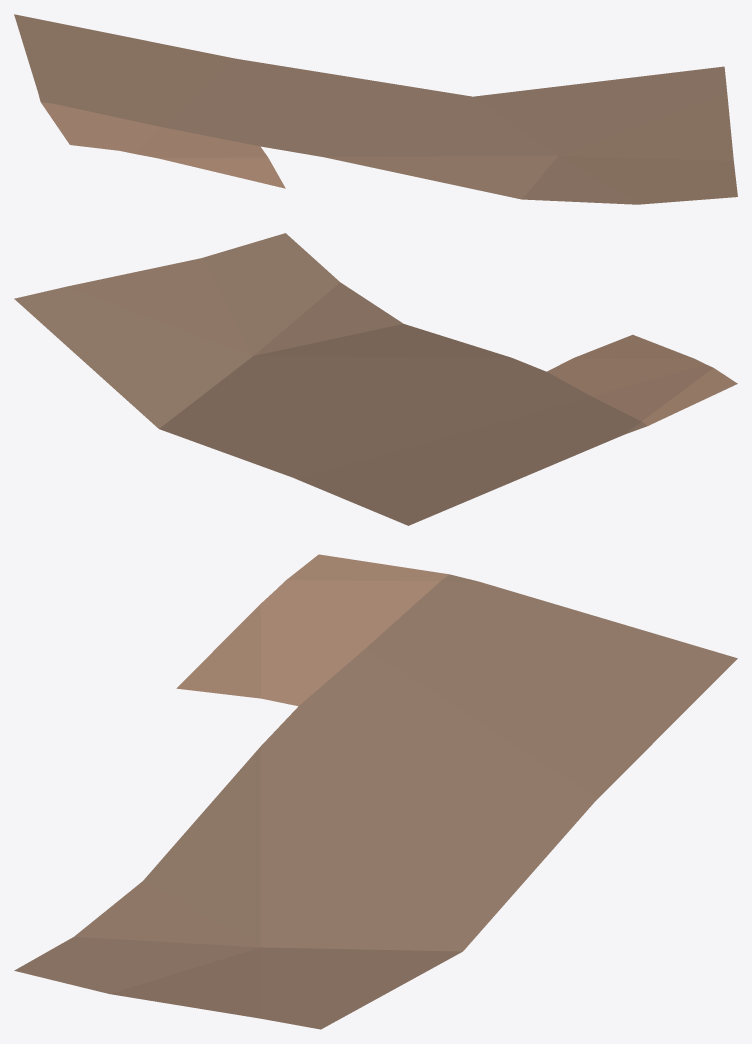
The model's file is farm_-63_-53_soil.glb.
3 renders of one model, top to bottom at view 1: azimuth 30°, elevation 25°; view 2: azimuth 150°, elevation 25°; view 3: azimuth 270°, elevation 25°, orthographic. The views are drawn at different scales.
Parts seen in each view (by area): view 1: geometry_0; view 2: geometry_0; view 3: geometry_0.
Boxes of the visible parts, x1,y1,x2,y2 form: geometry_0: (14, 14, 737, 204); geometry_0: (14, 233, 737, 525); geometry_0: (14, 554, 737, 1029).
Bounding box in the file's own units: 122 × 19.57 × 99.12.
